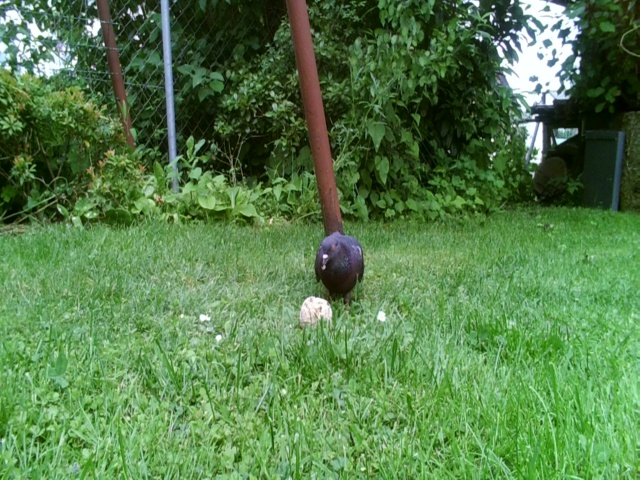Pigeon: (305, 227, 374, 311)
